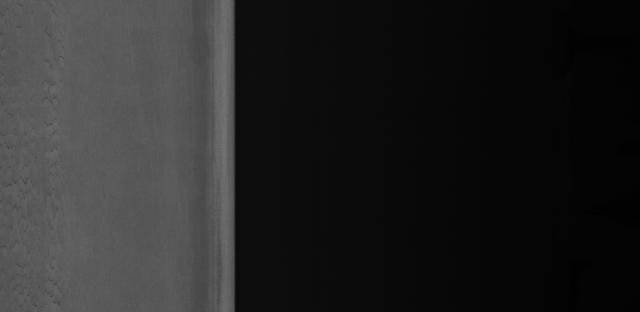silk_spot: (12, 29, 90, 255)
